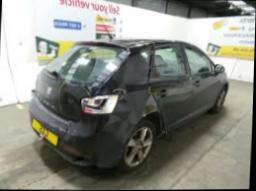Light: (78, 88, 127, 120)
